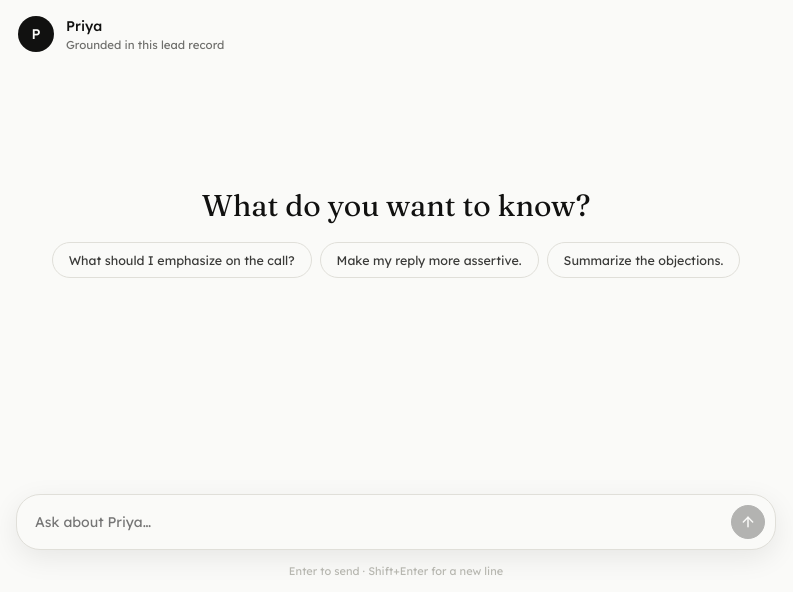
sends the message and appends reply plus history
Type "Is Saturday open?" into the text box named "message" at (379, 522), box [35, 506, 723, 539]
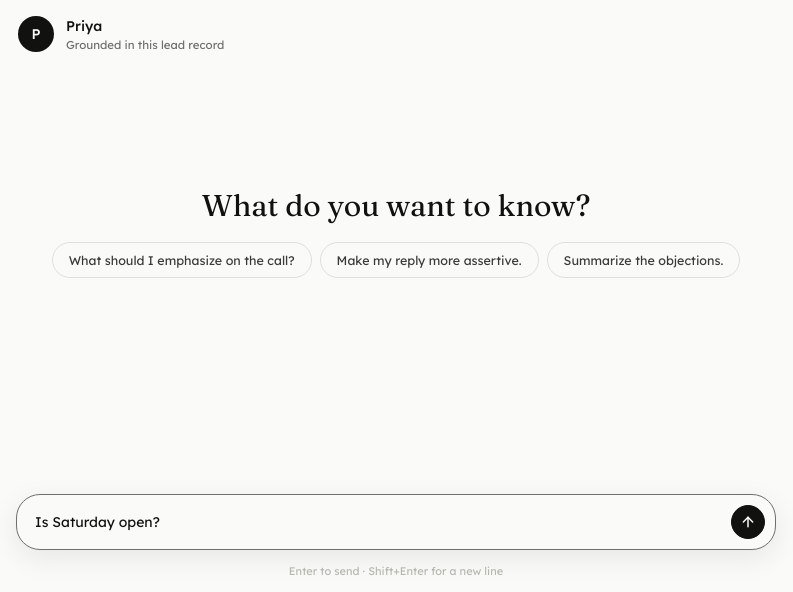
Click the button named "send" at (748, 522), box [731, 505, 765, 539]
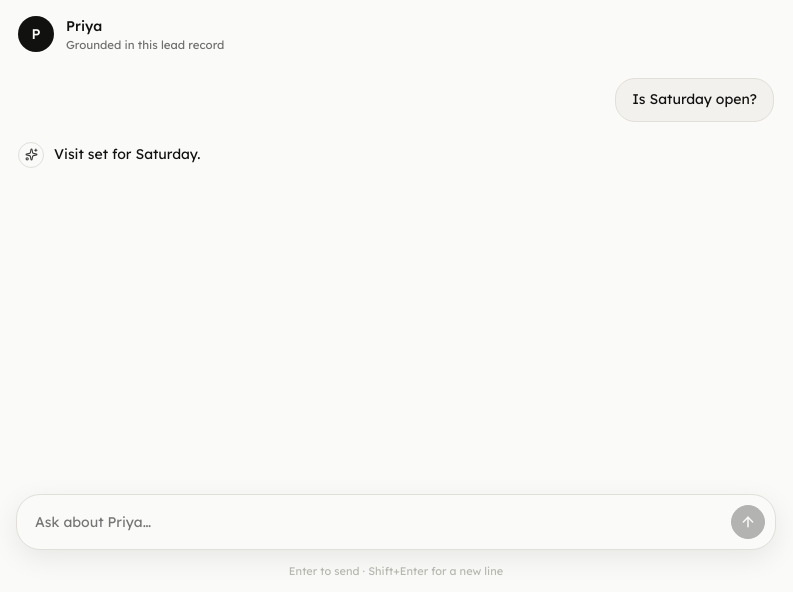
Check: the text "Visit set for Saturday." is shown, box [54, 145, 200, 163]
